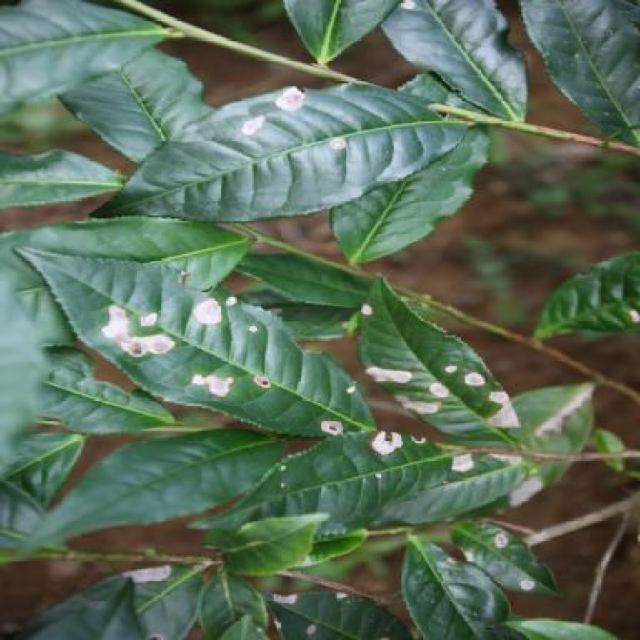Red Spider infested tea leaf: (19, 257, 382, 449), (363, 292, 542, 491), (143, 77, 415, 185), (203, 437, 472, 529)
